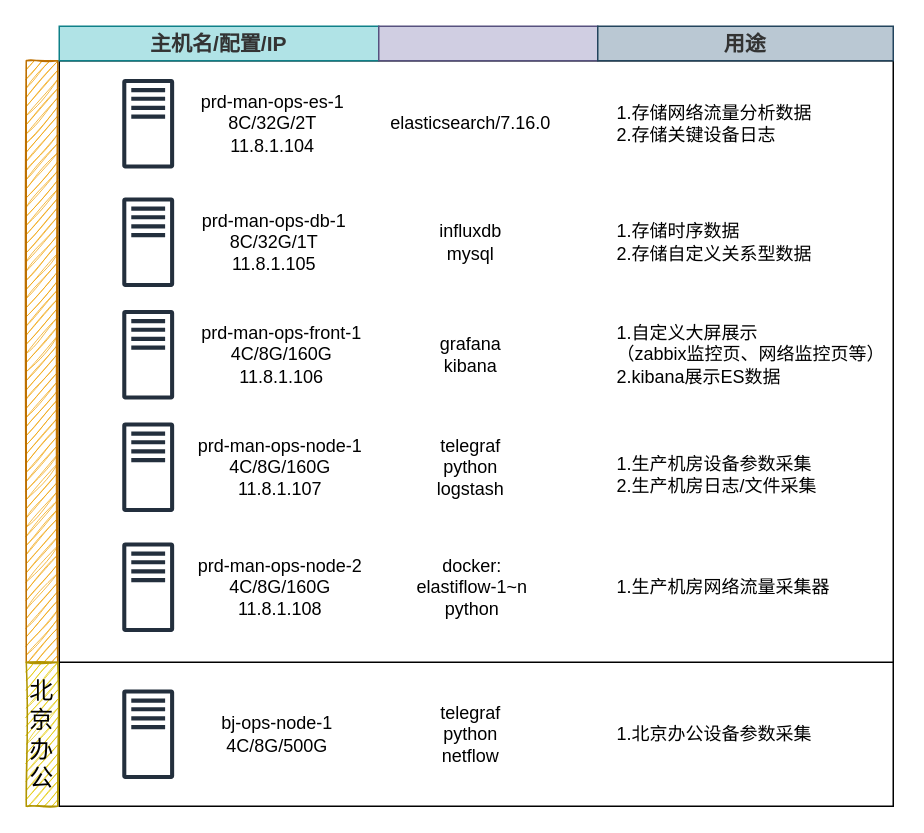
Some shapes in this 924 by 833 pixel diagram are drawn without their labels. The shapes that lost their labels are listed below. From the top down, each one's centre as x and y in pixels, then its label:
At (487,43): "服务/版本".
At (41,360): "北京生产 安全管理区".
